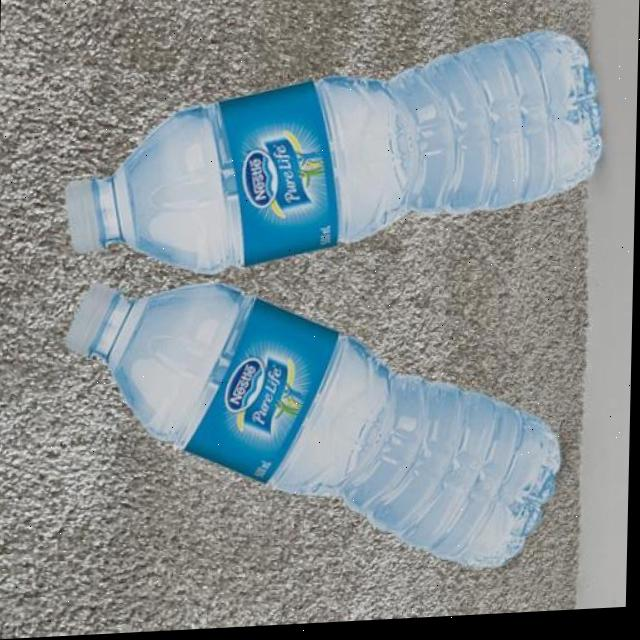bottle: (61, 262, 569, 592), (64, 31, 607, 283)
